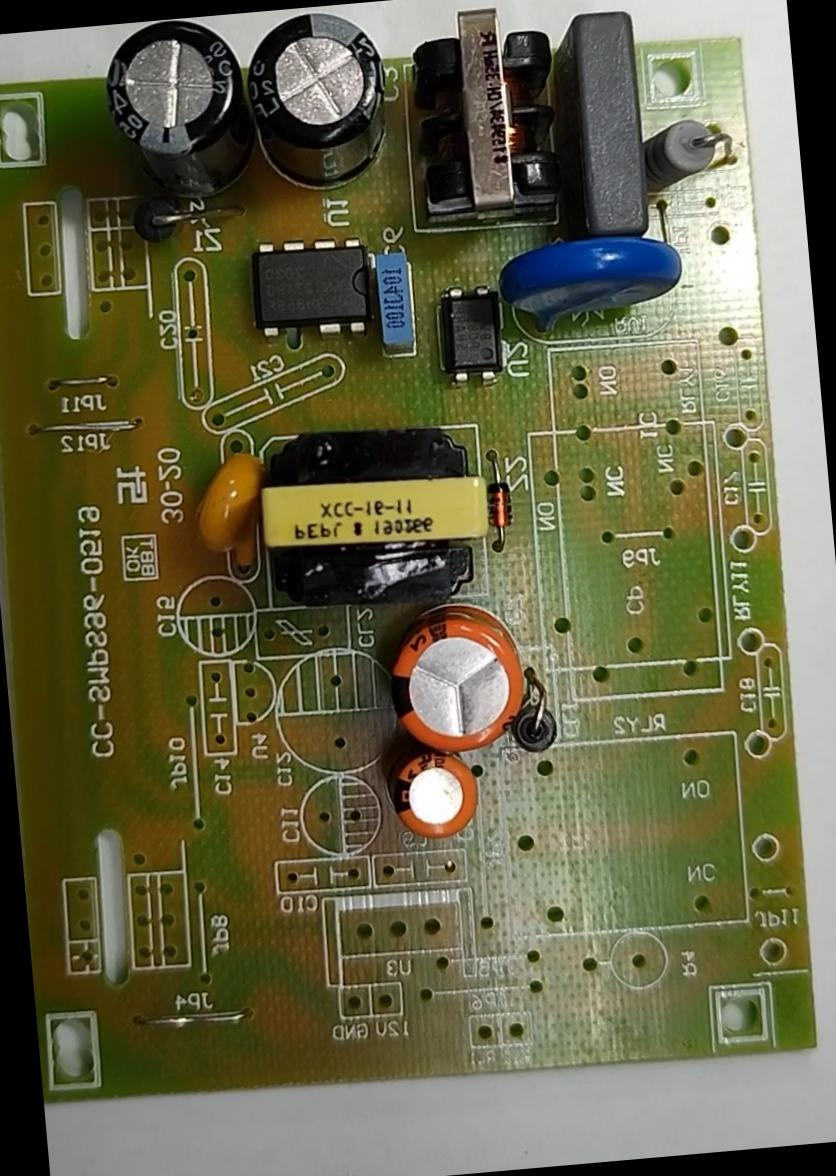Cap1: (376, 597, 560, 767)
Cap2: (391, 742, 503, 855)
Cap3: (235, 2, 400, 205)
Cap4: (90, 13, 274, 237)
MOSFET: (226, 225, 392, 349)
Mov: (474, 211, 698, 359)
Resistor: (639, 107, 738, 205)
Transformer: (231, 410, 515, 615), (388, 0, 585, 236)
